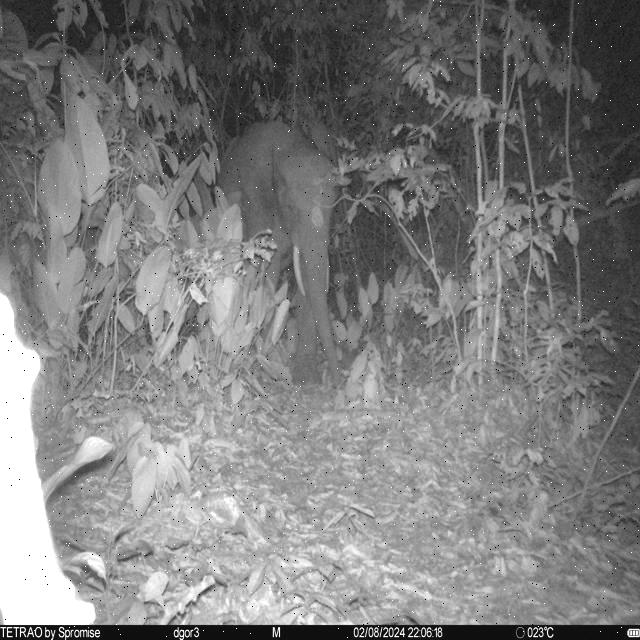elephant: (219, 119, 347, 390)
tusk: (292, 246, 306, 294), (324, 256, 331, 294)
